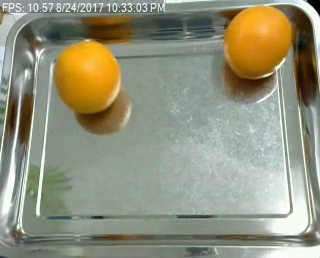Orange: (220, 6, 291, 79), (53, 40, 122, 114)
